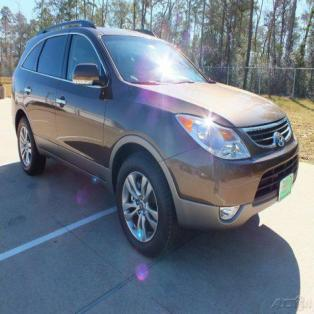Auto: (11, 20, 298, 259)
